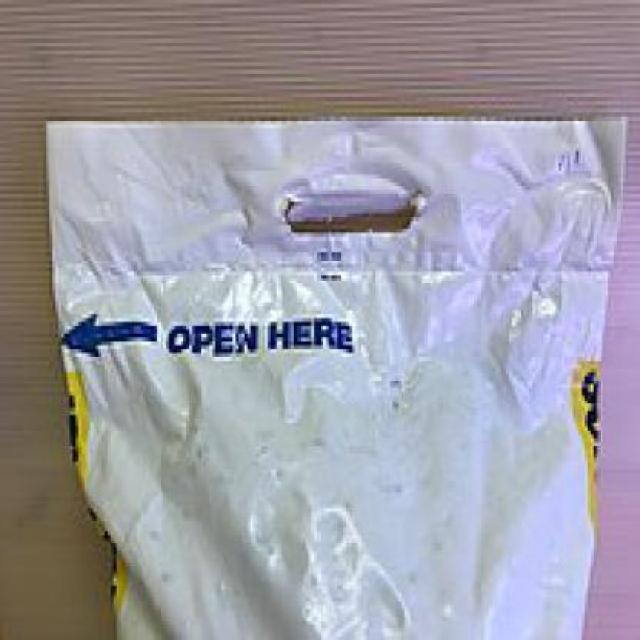plastic bag: (35, 110, 631, 638)
